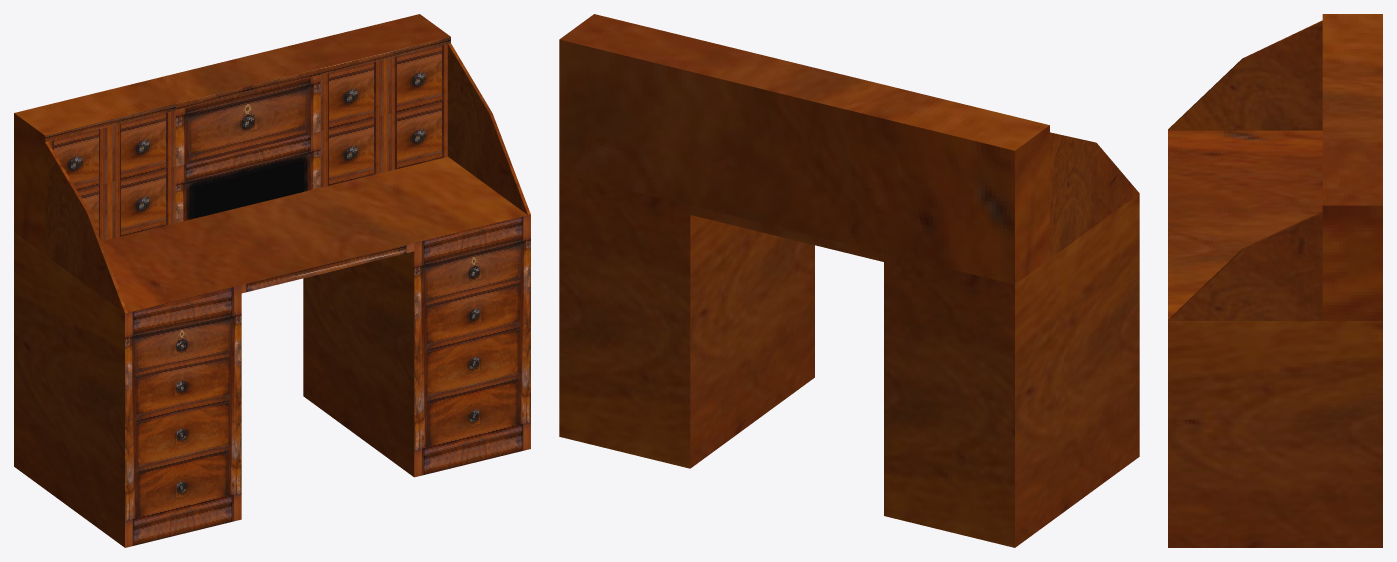
Rendered from study_desk.glb.
3 renders of one model, left to right at view 1: azimuth 30°, elevation 25°; view 2: azimuth 150°, elevation 25°; view 3: azimuth 270°, elevation 25°, orthographic. The views are drawn at different scales.
Visible parts, largest first — view 1: study_desk; view 2: study_desk; view 3: study_desk.
Part boxes in pixels (x1=…): study_desk: x1=14, y1=14, x2=530, y2=547; study_desk: x1=559, y1=14, x2=1139, y2=547; study_desk: x1=1168, y1=14, x2=1382, y2=547.
Size of the model in its own units: 1.4 by 1.17 by 0.6654.
1 material, 1 textured.
